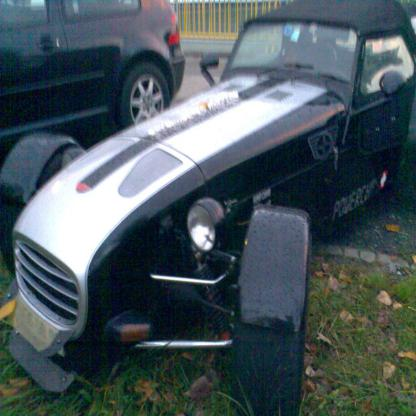Car: (0, 0, 416, 415), (0, 0, 185, 168)
